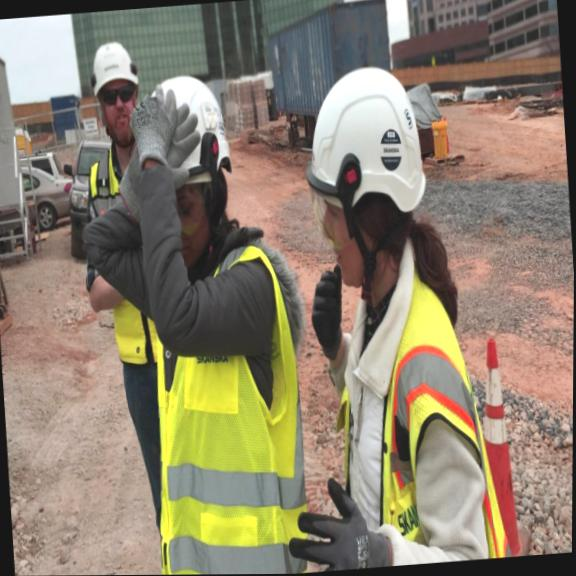safety_vest: (138, 239, 314, 575), (325, 269, 515, 570), (85, 147, 161, 369)
